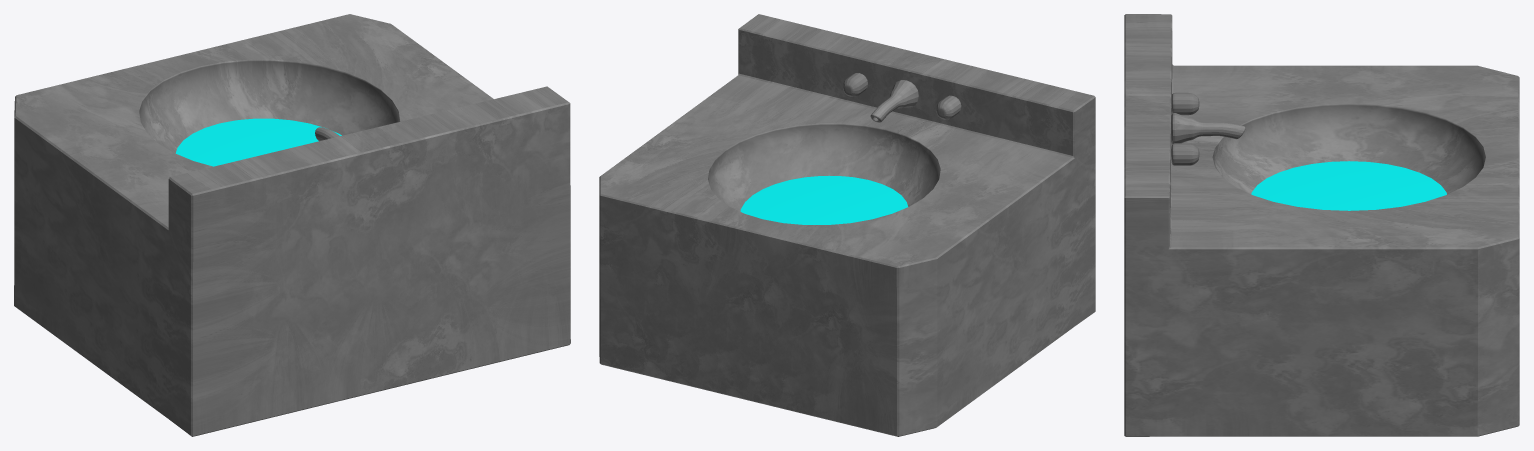
The model's file is smallprisonsink.fbx.
3 renders of one model, left to right at view 1: azimuth 30°, elevation 25°; view 2: azimuth 150°, elevation 25°; view 3: azimuth 270°, elevation 25°, orthographic. The views are drawn at different scales.
Visible parts, largest first — view 1: MD_PRISON_SINK_Variant1; view 2: MD_PRISON_SINK_Variant1; view 3: MD_PRISON_SINK_Variant1.
Part boxes in pixels (bbox=[...]): MD_PRISON_SINK_Variant1: bbox=[14, 14, 570, 436]; MD_PRISON_SINK_Variant1: bbox=[599, 14, 1095, 436]; MD_PRISON_SINK_Variant1: bbox=[1124, 14, 1519, 436].
Size of the model in its own units: 2.56 by 1.57 by 2.33.
